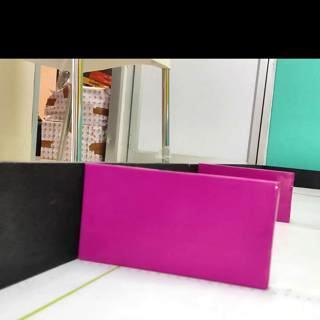xparking: (79, 164, 279, 289), (277, 171, 294, 224)
